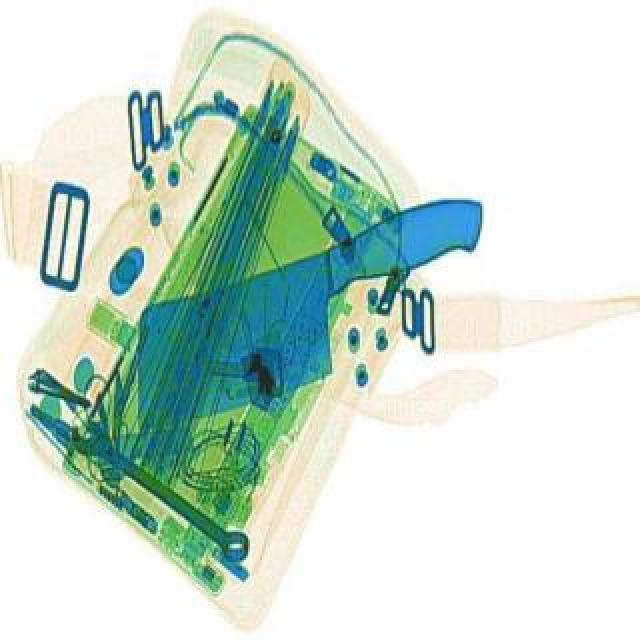knife: (106, 184, 522, 432)
scissors: (62, 412, 260, 566)
